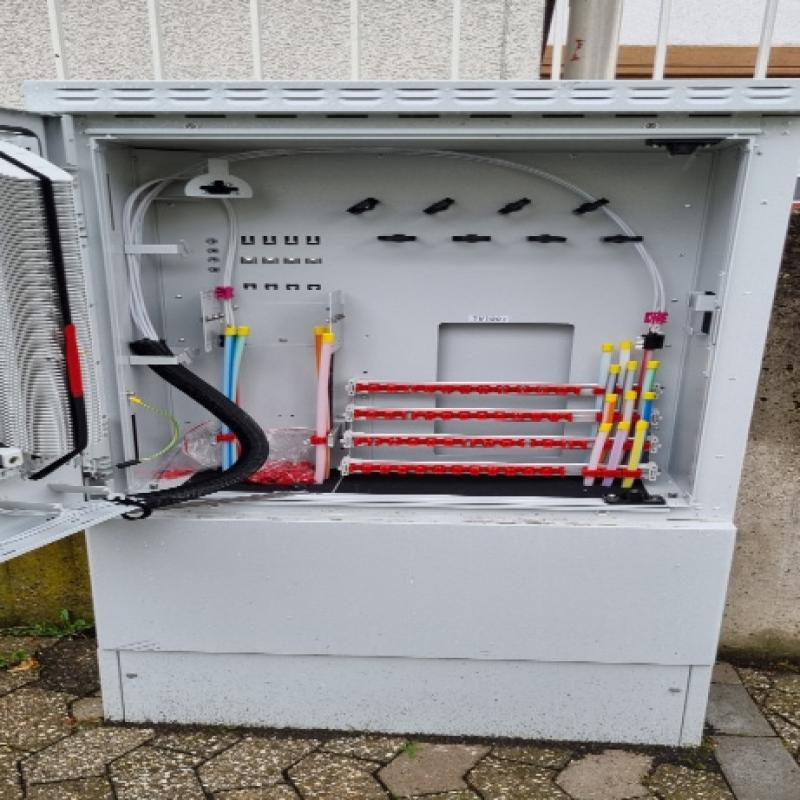NT-Gehause: (0, 80, 800, 748)
